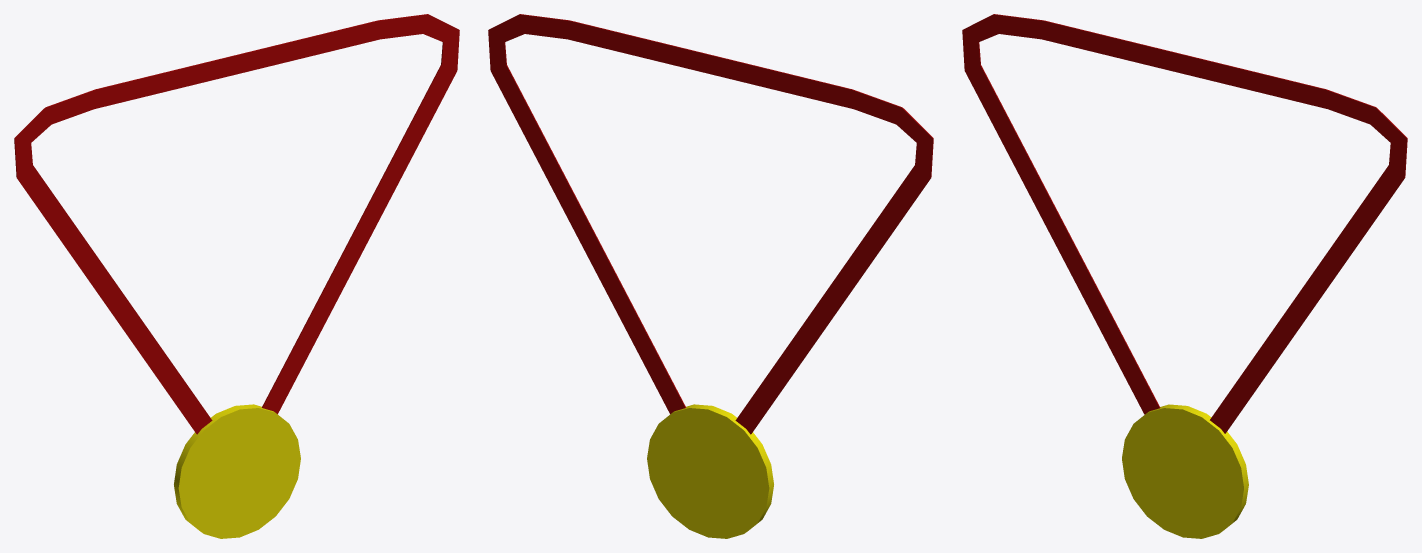
Rendered from Medal.fbx.
3 views of the same model, side by side, from view 1: azimuth 30°, elevation 25°; view 2: azimuth 150°, elevation 25°; view 3: azimuth 330°, elevation 25° (orthographic).
Visible parts, largest first — view 1: pCube4; view 2: pCube4; view 3: pCube4.
Boxes of the visible parts, box(x1,y1,x2,y2) form: pCube4: box(14, 14, 459, 538); pCube4: box(488, 14, 933, 538); pCube4: box(962, 14, 1407, 538).
Bounding box in the file's own units: 7.27 × 7.51 × 0.1371.
